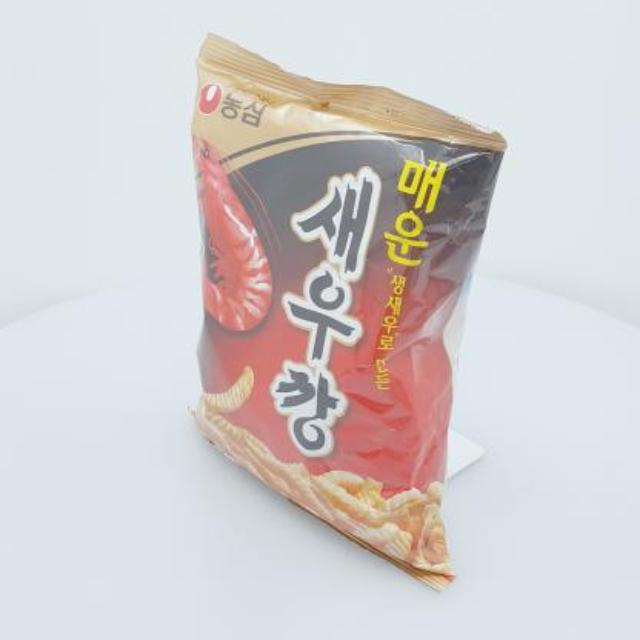snack_bag: (183, 24, 512, 594)
